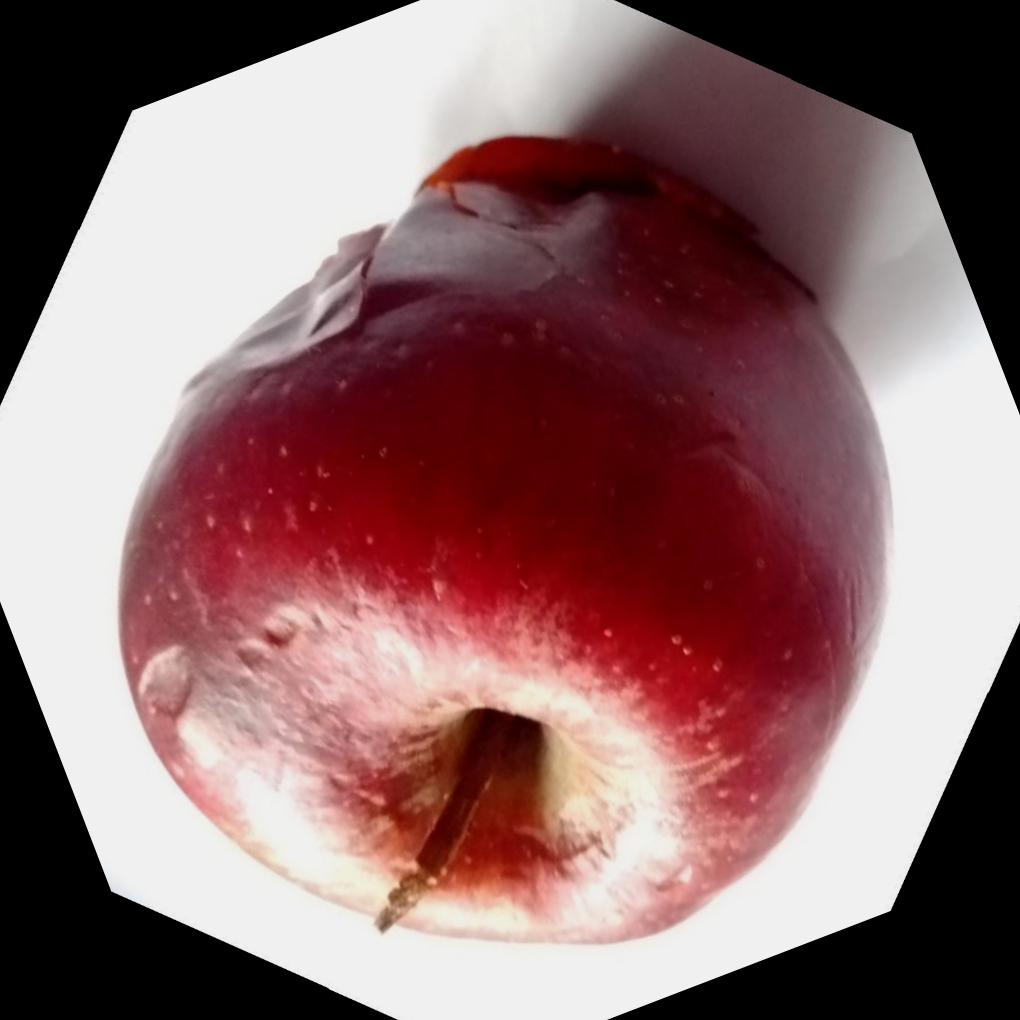FreshOrange: (113, 129, 896, 947)
